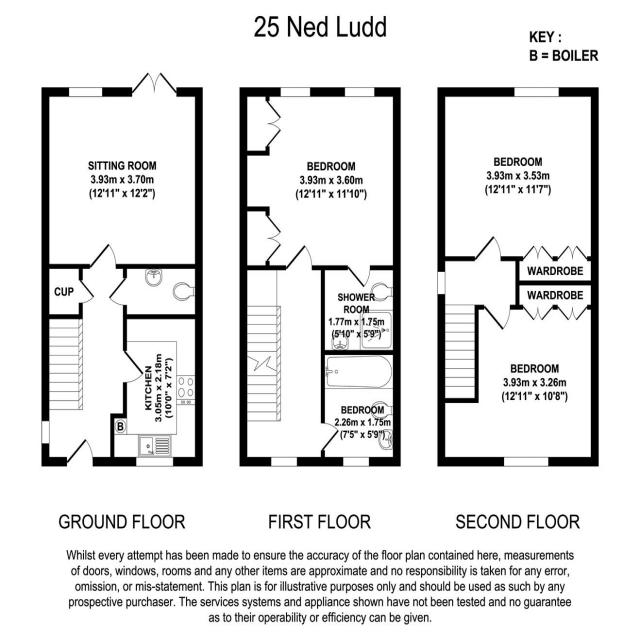DOOR: (482, 304, 512, 333), (122, 349, 146, 385), (66, 437, 94, 467), (285, 243, 314, 271), (474, 234, 503, 262), (89, 242, 117, 269), (320, 422, 340, 451), (347, 265, 371, 289), (108, 277, 127, 307), (78, 279, 96, 304)
DOUBLE DOOR: (133, 71, 180, 97)
ROOM: (239, 87, 401, 289), (41, 71, 203, 270), (437, 87, 599, 262), (437, 304, 599, 467), (110, 313, 203, 467)
WINDOW: (513, 86, 560, 98), (503, 456, 549, 468), (135, 456, 174, 467), (68, 87, 103, 98), (280, 86, 311, 98), (344, 87, 375, 98), (270, 456, 298, 467), (342, 456, 370, 467), (436, 271, 446, 295), (41, 420, 50, 444)
